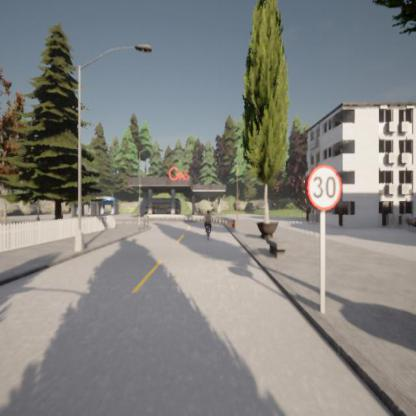motobike: (204, 210, 214, 238)
traffic_sign_30: (307, 164, 342, 210)
